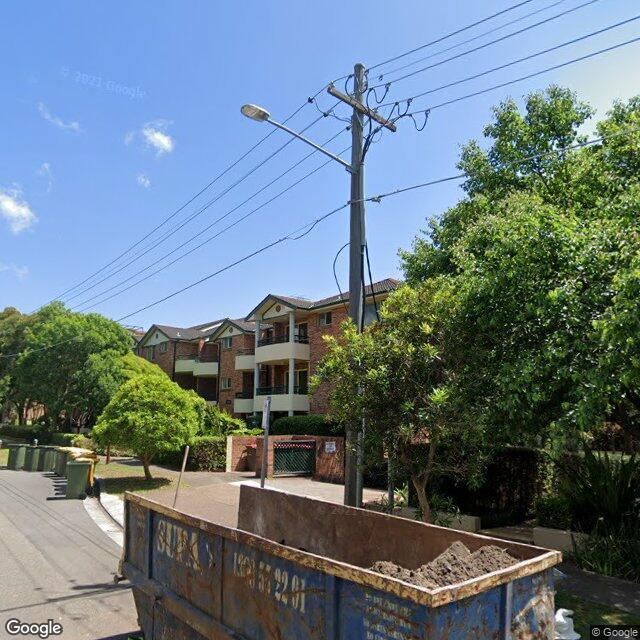crossarm: (328, 86, 397, 134)
streetlight: (240, 103, 355, 172)
timber-pole: (344, 63, 366, 505)
